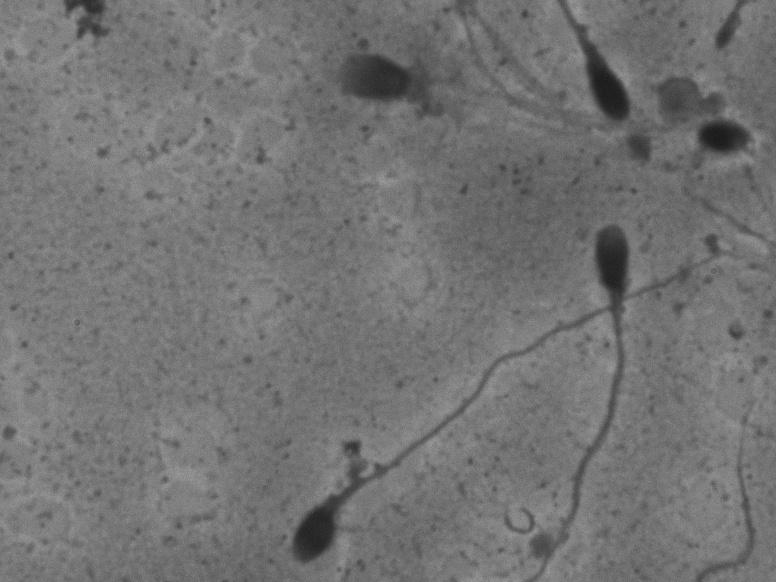Abnormal: (265, 239, 736, 570), (525, 216, 651, 577)
